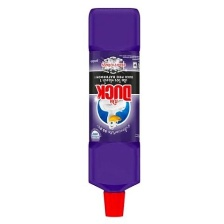cleaning_solution: (85, 6, 143, 219)
